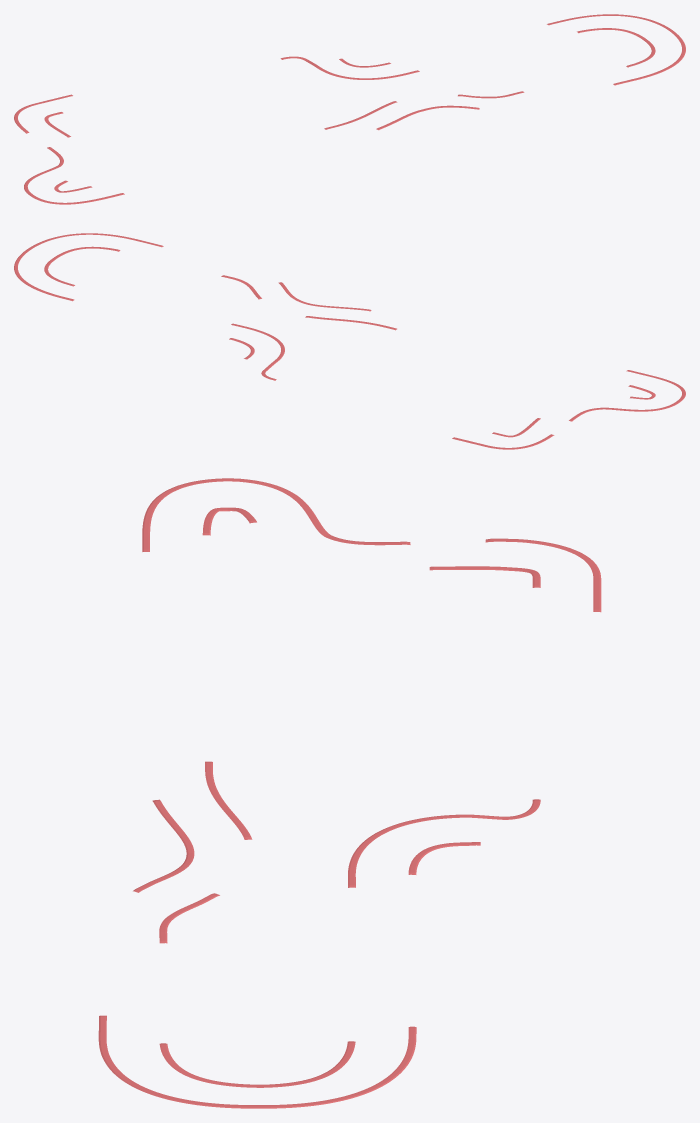
The model's file is TestTrack_v2_curbs.fbx.
3 renders of one model, top to bottom at view 1: azimuth 30°, elevation 25°; view 2: azimuth 150°, elevation 25°; view 3: azimuth 270°, elevation 25°, orthographic. The views are drawn at different scales.
Parts seen in each view (by area): view 1: curbs; view 2: curbs; view 3: curbs.
Boxes of the visible parts, box(x1,y1,x2,y2) form: curbs: box(14, 14, 685, 204); curbs: box(14, 233, 685, 449); curbs: box(98, 478, 601, 1108).
Bounding box in the file's own units: 33979 × 132 × 11440.
